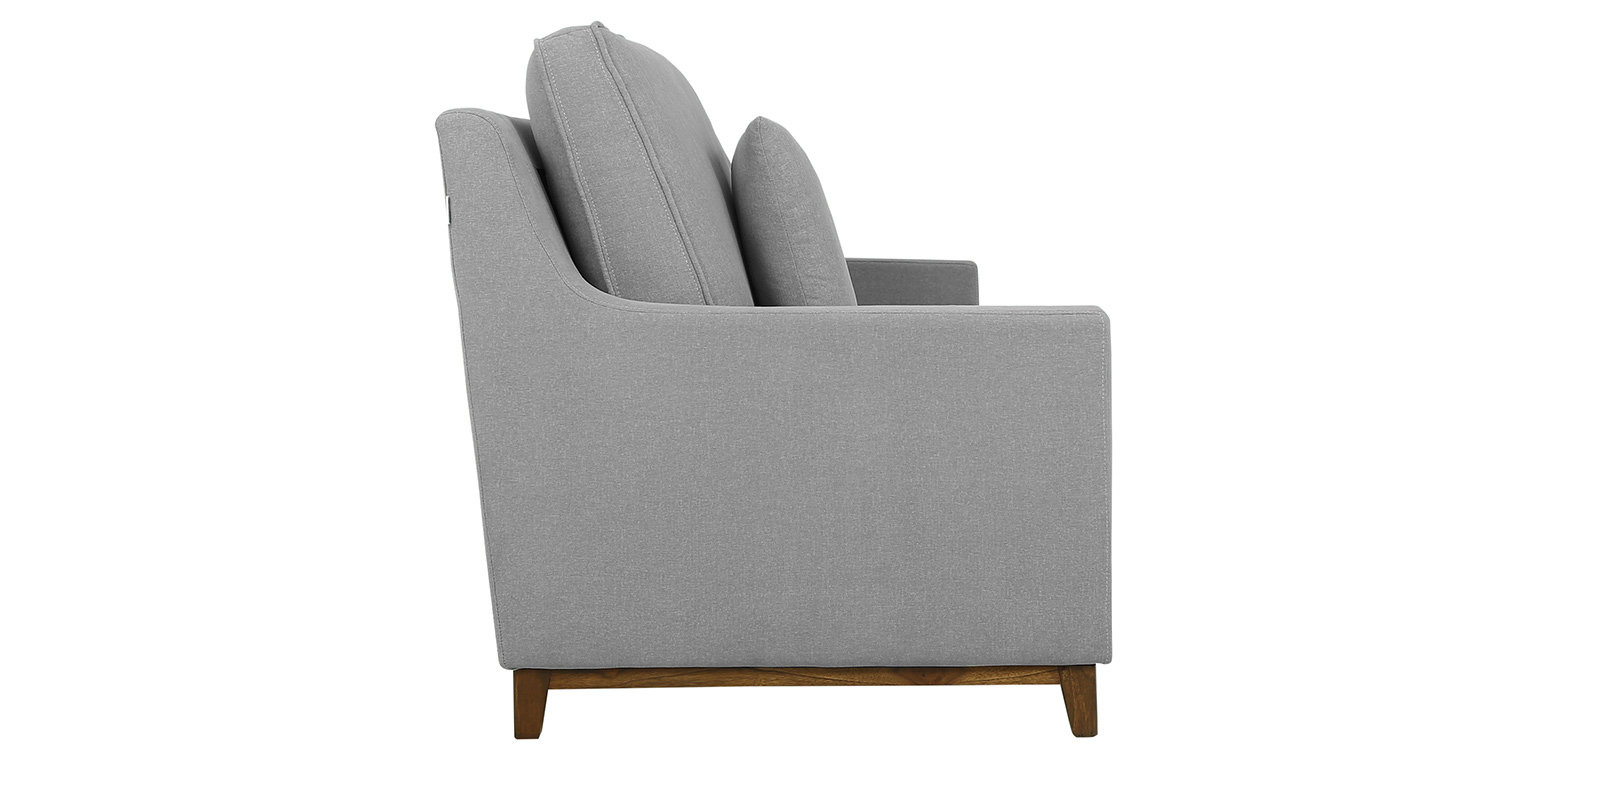Diego Three Seater Sofa in Ash Grey Colour by CasaCraft: (400, 21, 1123, 760)
